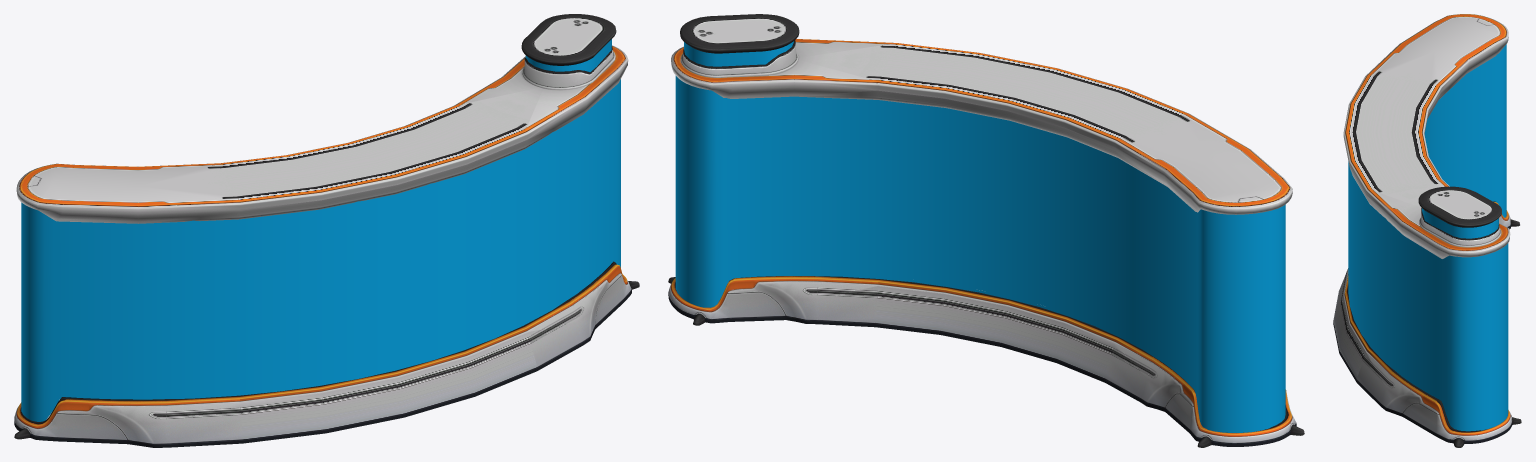
The model's file is CurvedAquariumModel.fbx.
3 views of the same model, side by side, from view 1: azimuth 30°, elevation 25°; view 2: azimuth 150°, elevation 25°; view 3: azimuth 270°, elevation 25° (orthographic). The views are drawn at different scales.
Parts seen in each view (by area): view 1: Aquarium_glass, Aquarium_1; view 2: Aquarium_glass, Aquarium_1; view 3: Aquarium_glass, Aquarium_1.
Boxes of the visible parts, <box> form: Aquarium_glass: <box>21,79,620,421</box>; Aquarium_1: <box>14,14,639,447</box>; Aquarium_glass: <box>675,75,1285,432</box>; Aquarium_1: <box>668,14,1304,447</box>; Aquarium_glass: <box>1348,44,1508,431</box>; Aquarium_1: <box>1333,14,1521,447</box>.
Size of the model in its own units: 567 by 230 by 182.
